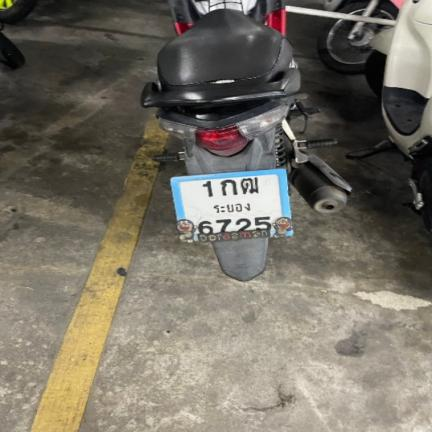1: (198, 181, 216, 197)
2: (234, 217, 250, 231)
5: (254, 216, 273, 229)
6: (195, 219, 214, 234)
7: (214, 219, 232, 232)
A01: (220, 179, 239, 196)
A18: (240, 177, 259, 195)
RYG: (211, 201, 254, 214)
